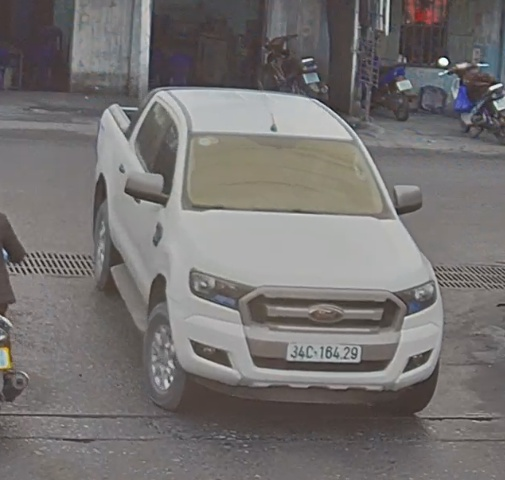vehicle plate: (283, 337, 363, 365)
